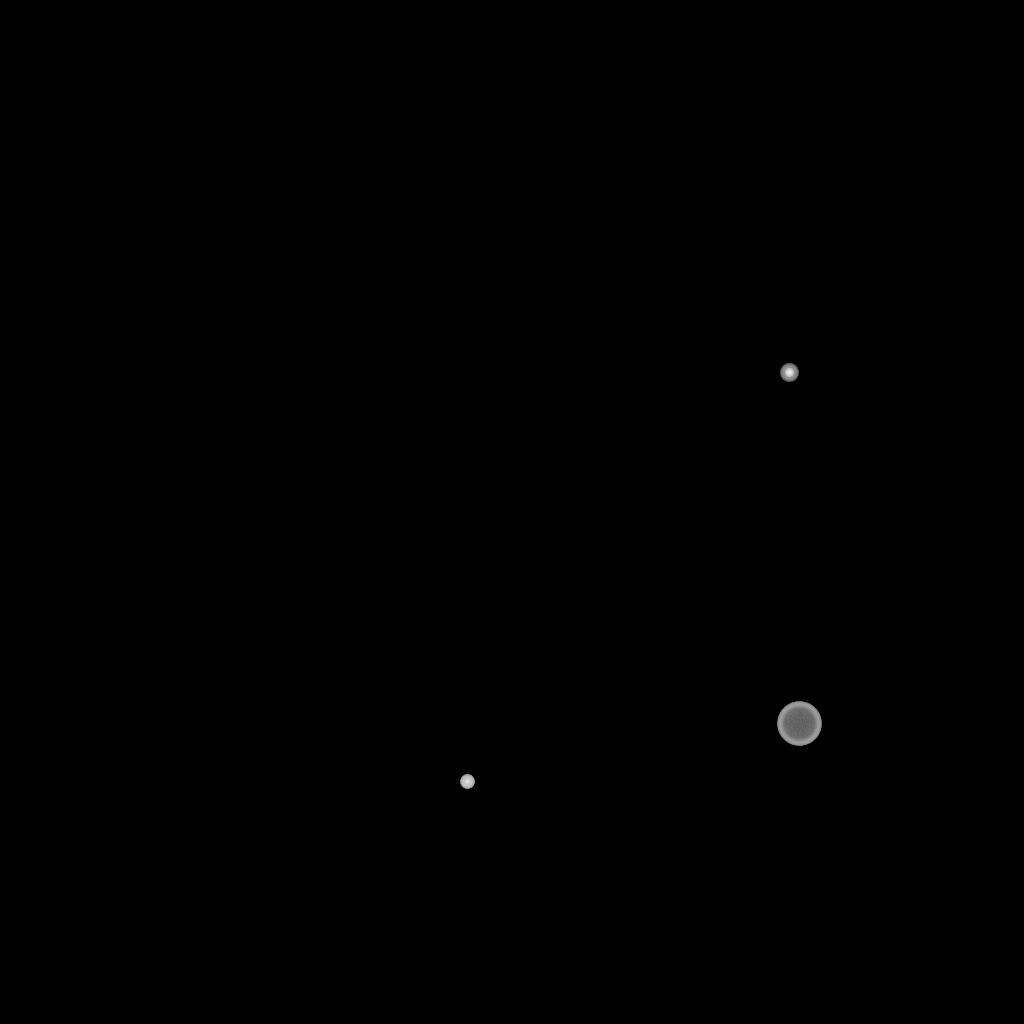depth:-20: (780, 364, 798, 382)
depth:-30: (460, 775, 474, 789)
depth:-70: (777, 702, 821, 746)
